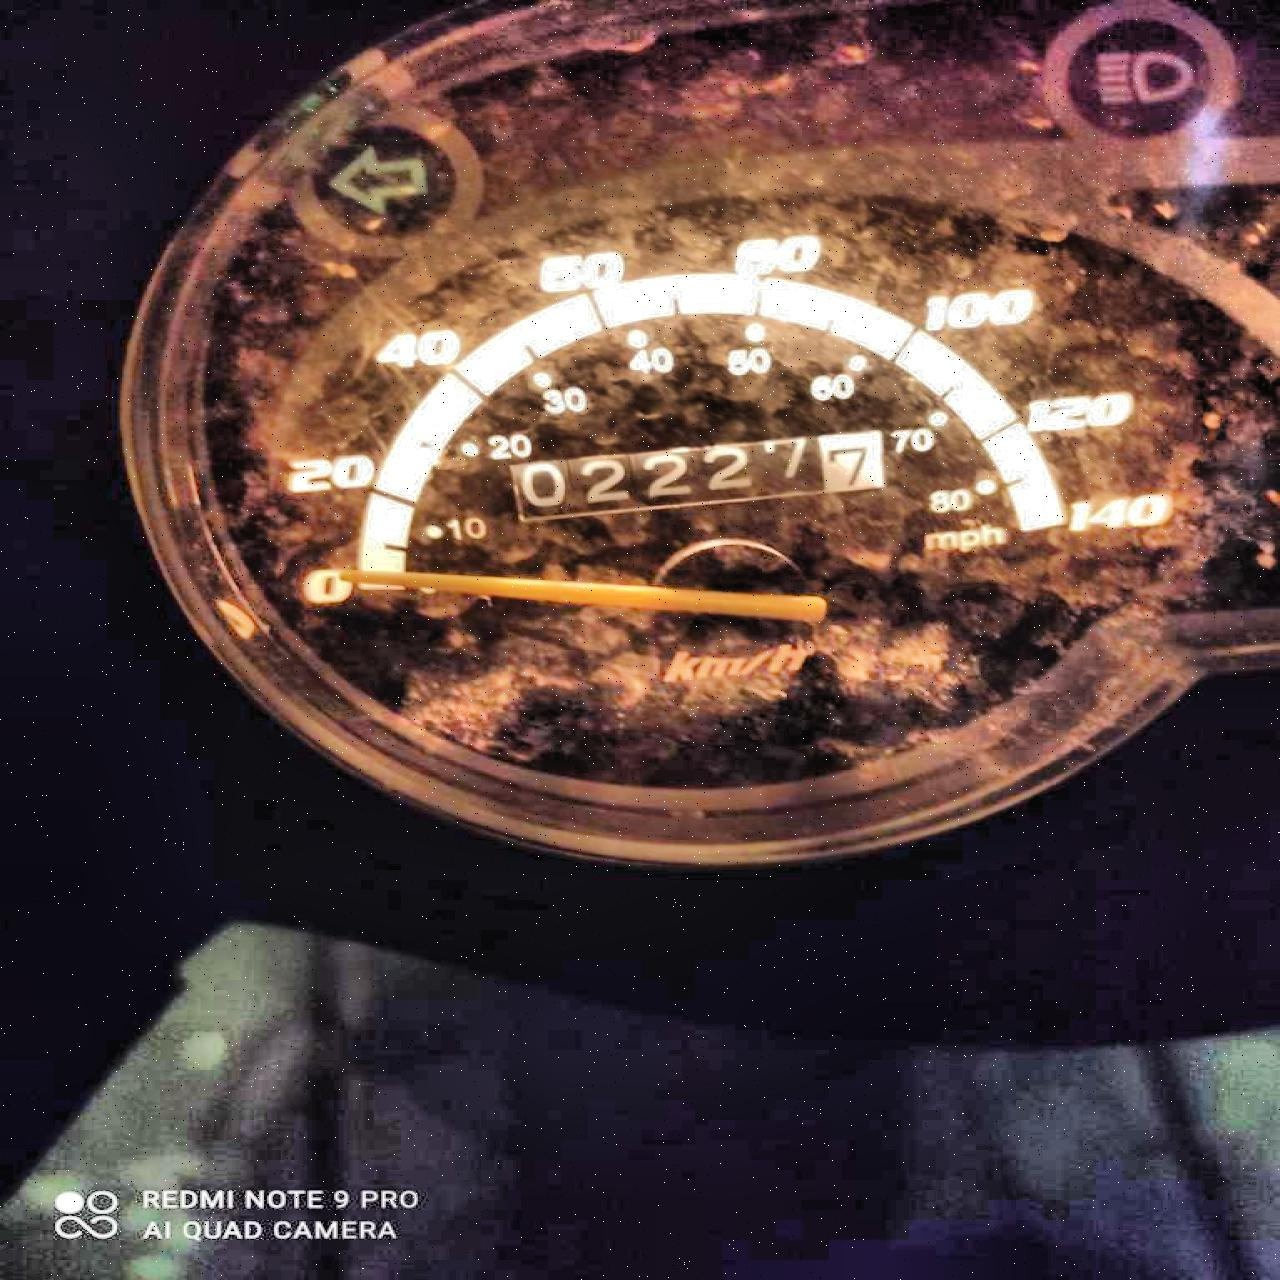0: (519, 459, 565, 506), (508, 433, 531, 457)
2: (578, 457, 628, 504), (640, 452, 692, 497), (703, 445, 750, 490)
7: (761, 434, 805, 477), (828, 445, 866, 486)
odometer: (506, 425, 887, 525)
